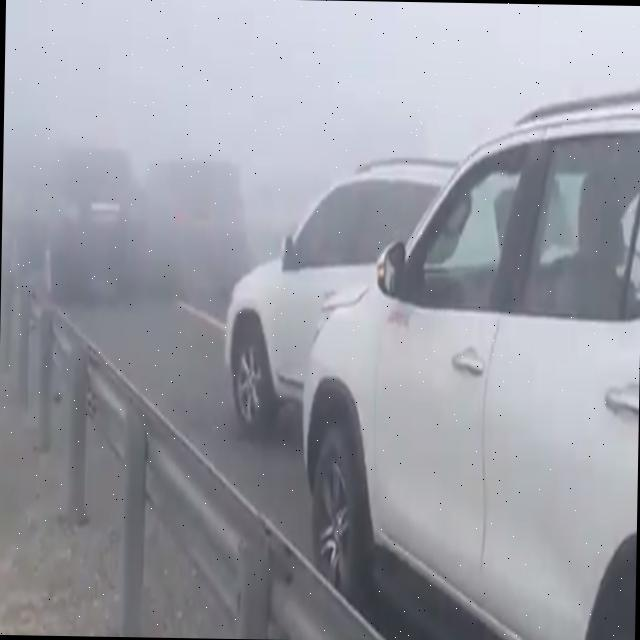car: (299, 83, 640, 635), (226, 143, 460, 439), (8, 134, 150, 302), (140, 150, 250, 314)
